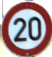20 km speed: (1, 1, 52, 56)
